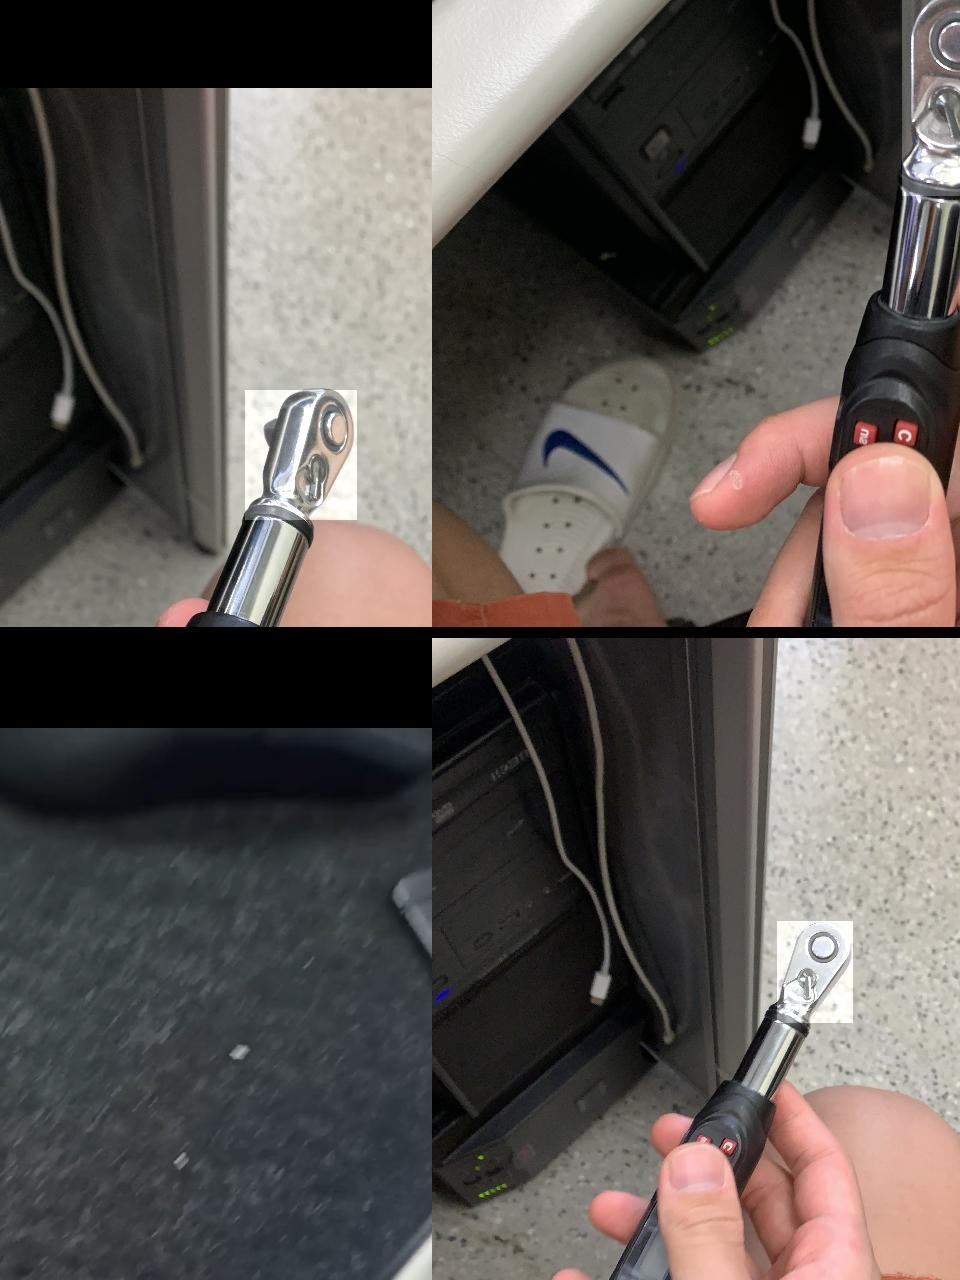Tool: (245, 389, 357, 519), (902, 0, 960, 195), (777, 920, 853, 1022)
